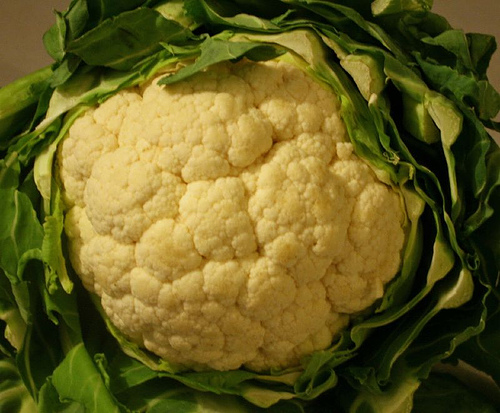cauliflower: (59, 52, 412, 374)
